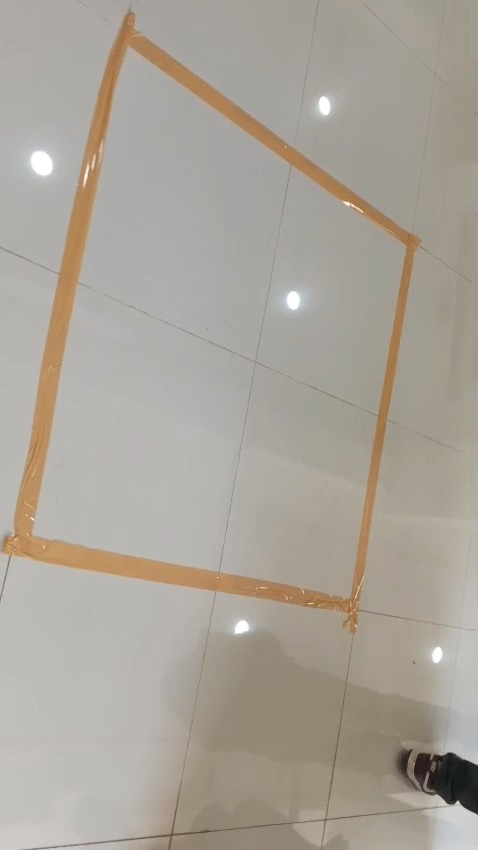floor marking: (4, 13, 419, 632)
